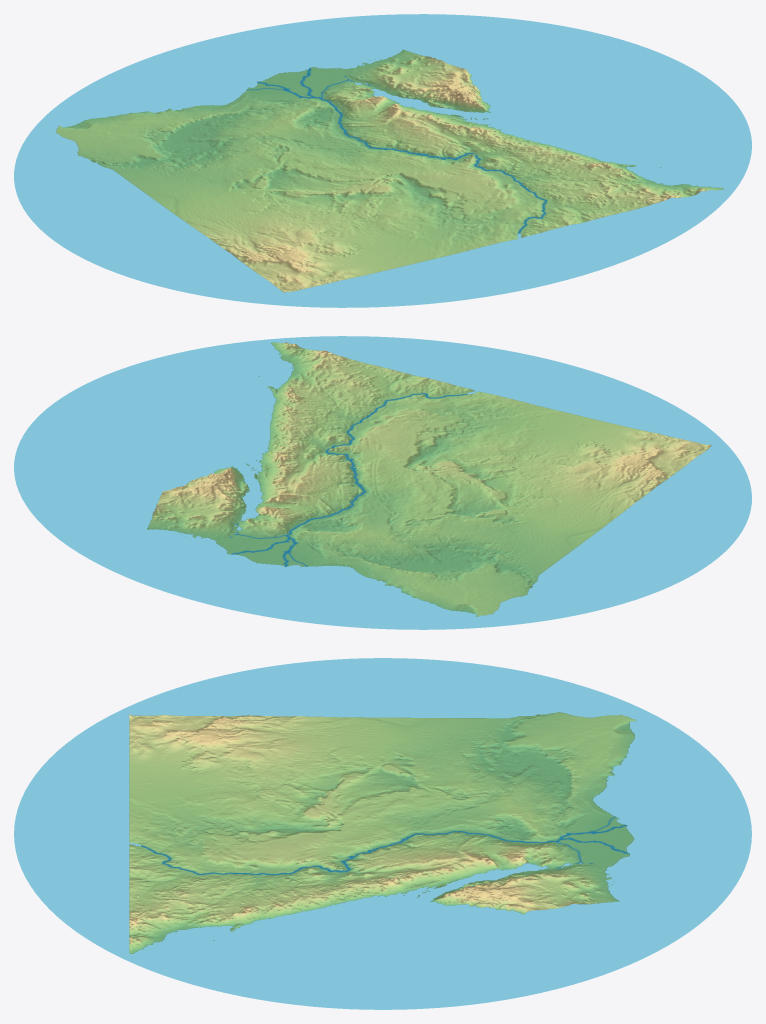
File: EGY-terrain.glb
3 renders of one model, top to bottom at view 1: azimuth 30°, elevation 25°; view 2: azimuth 150°, elevation 25°; view 3: azimuth 270°, elevation 25°, orthographic. The views are drawn at different scales.
Parts seen in each view (by area): view 1: Relevo com hidrografia; view 2: Relevo com hidrografia; view 3: Relevo com hidrografia.
Part boxes in pixels (<box>): Relevo com hidrografia: <box>14,14,751,307</box>; Relevo com hidrografia: <box>14,336,751,629</box>; Relevo com hidrografia: <box>14,658,751,1009</box>.
Size of the model in its own units: 2.34 by 0.0319 by 2.08.
Materials: 2 (1 with a texture image).
